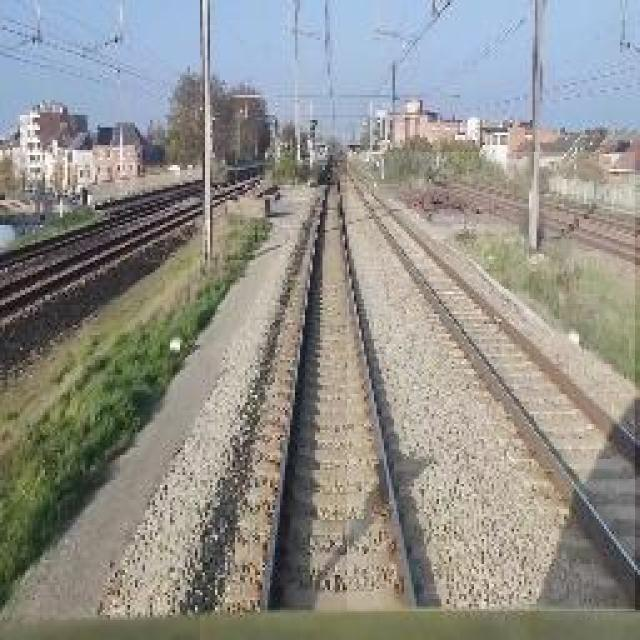rail: (349, 154, 636, 612), (215, 158, 448, 613)
